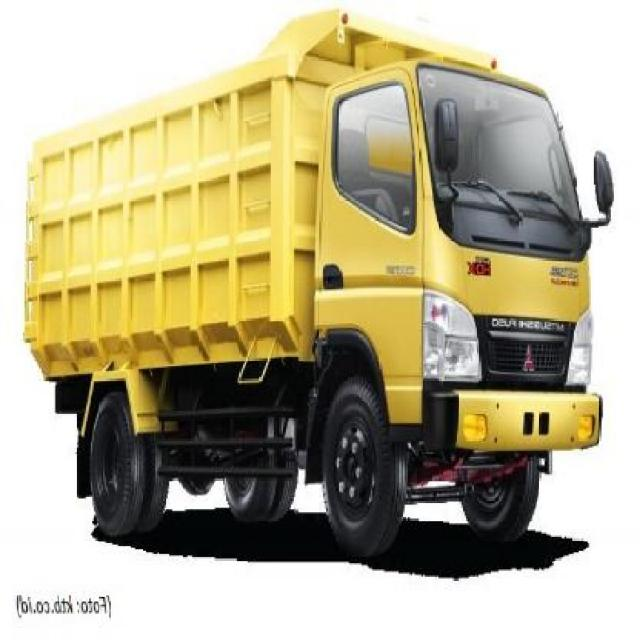truck: (24, 12, 613, 547)
